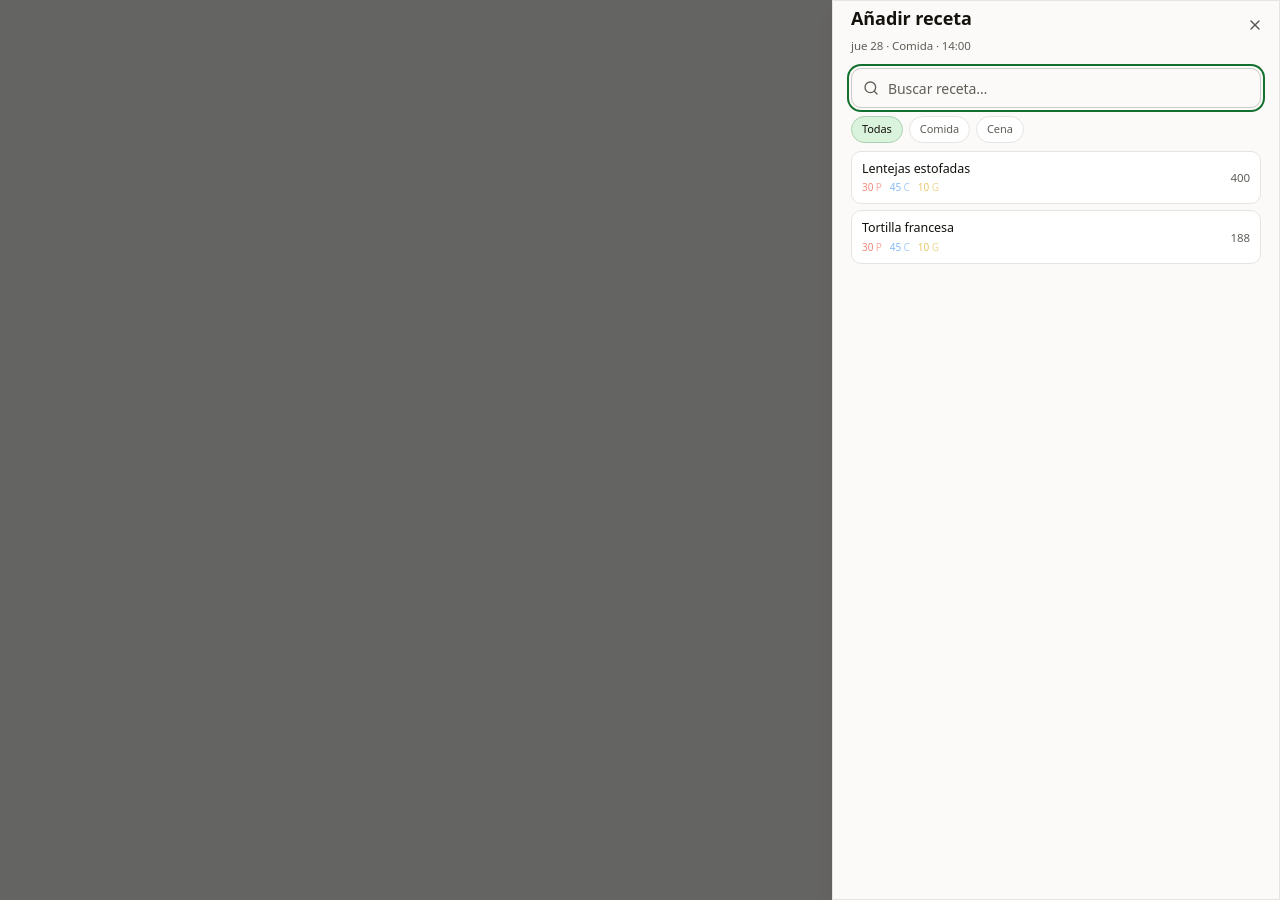
it: AddRecipeDrawer › projects the day balance once a recipe is picked, and follows the servings stepper
Step 1. Click the text "Lentejas estofadas" → (916, 168), box [862,160,970,176]
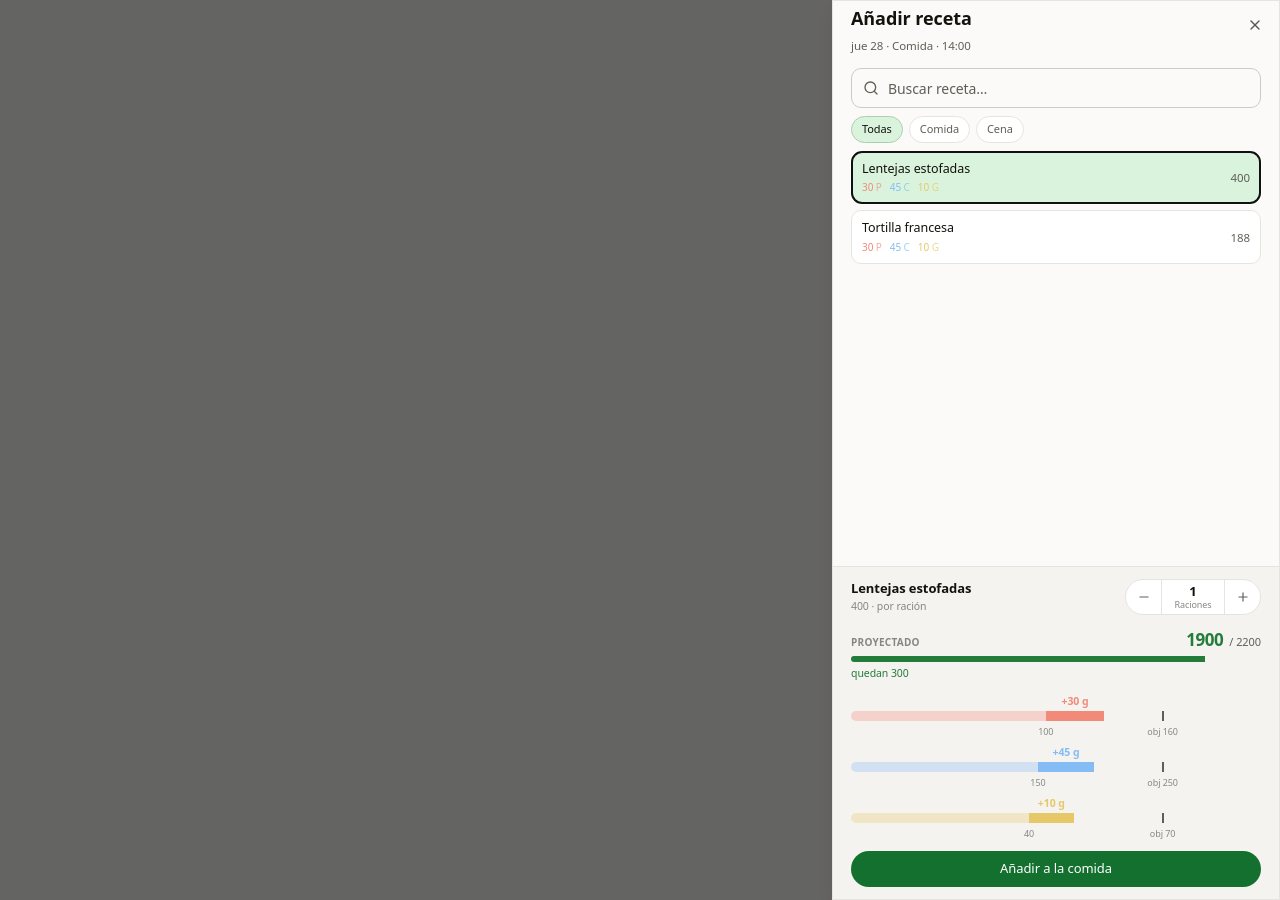
Now the text with test id "projected-kcal" reads "1900", box [1186,628,1223,651]
Now the element showing "+30 g 100 obj 160" is shown, box [851,694,1261,737]
Step 2. Click the button named "Más raciones" → (1242, 597), box [1224,580,1260,614]
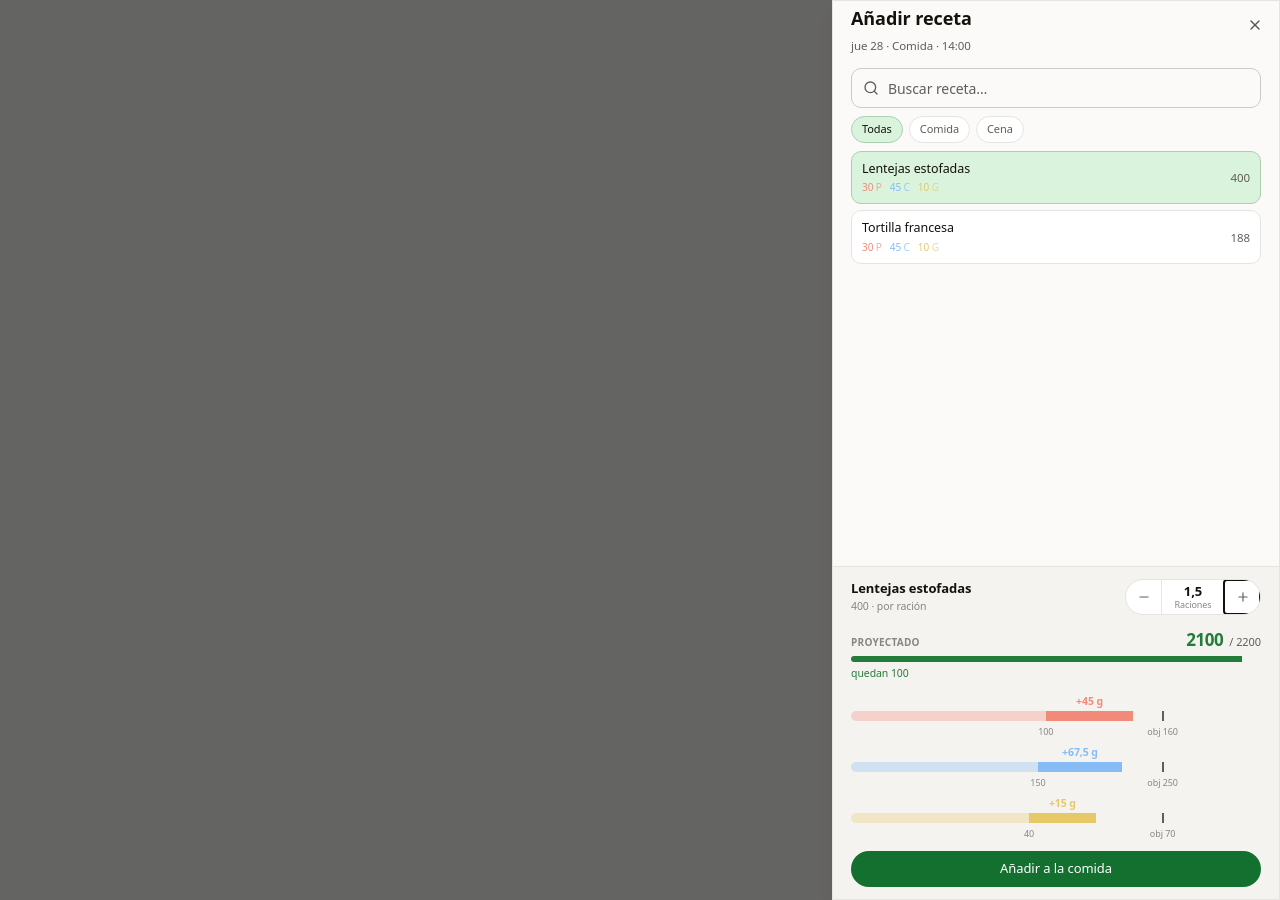
Now the text with test id "projected-kcal" reads "2100", box [1186,628,1223,651]
